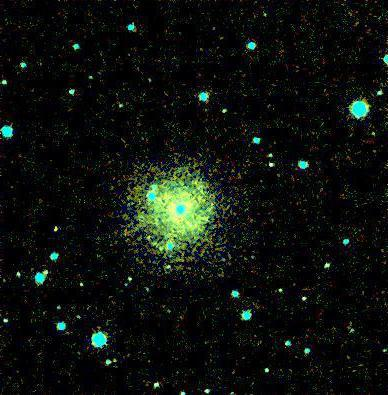star: (37, 213, 67, 243)
